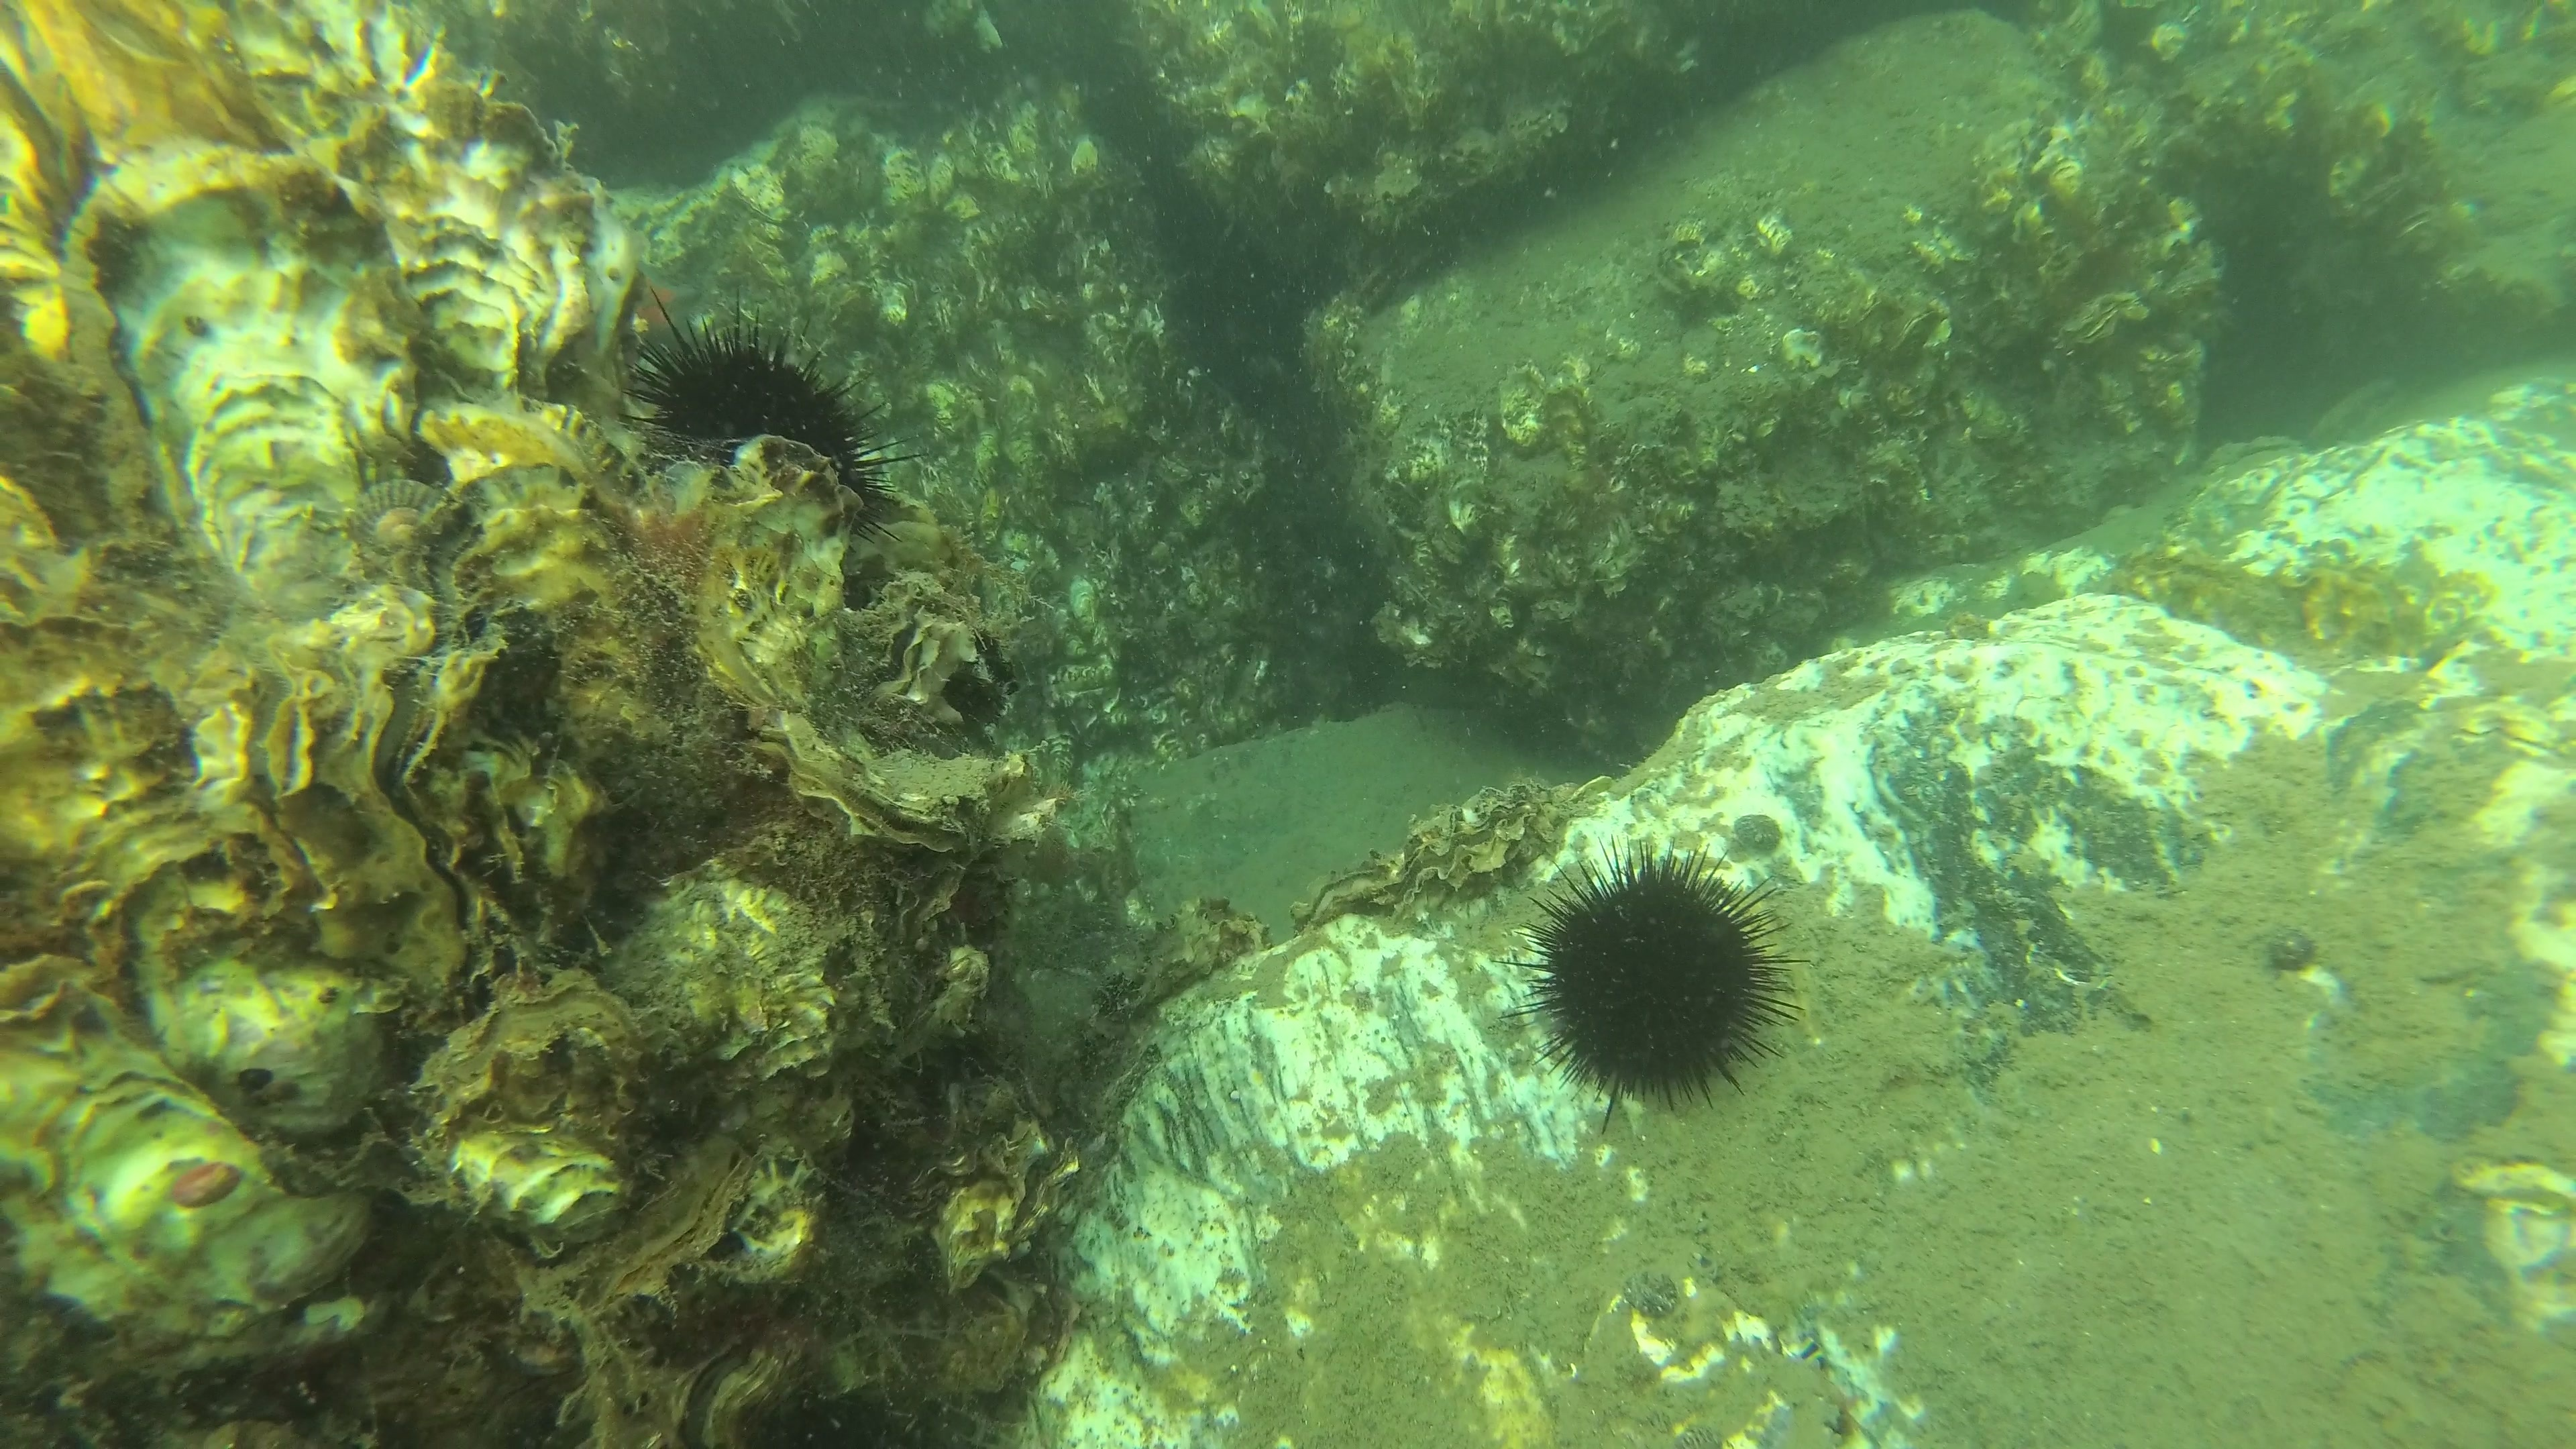echinus: (1497, 842, 1810, 1132), (623, 295, 916, 545)
starfish: (580, 253, 694, 356)
